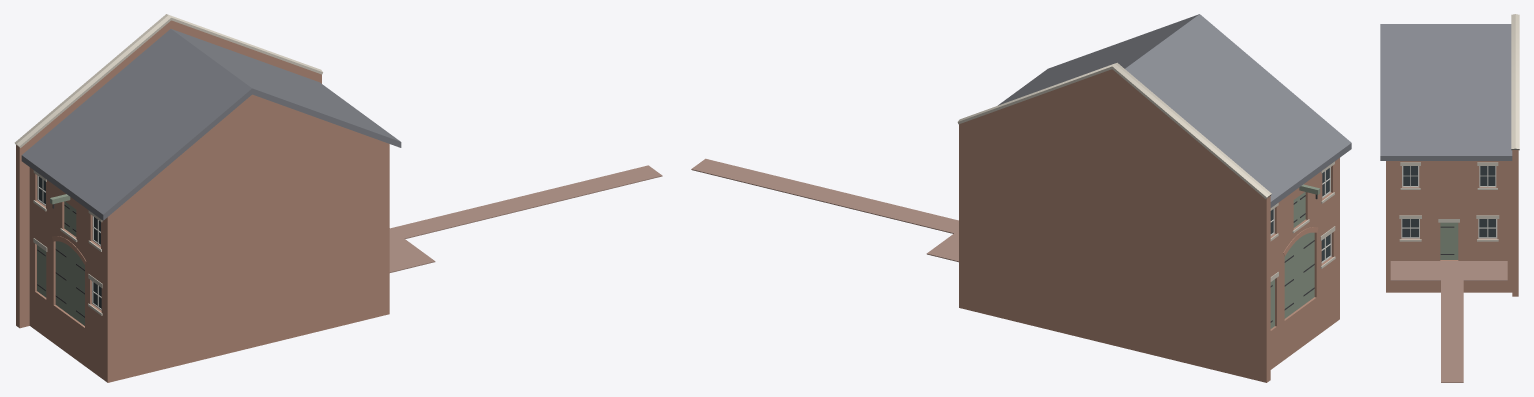
The model's file is house_1628_prairie_coach_house__as_standing_1904.glb.
3 views of the same model, side by side, from view 1: azimuth 30°, elevation 25°; view 2: azimuth 150°, elevation 25°; view 3: azimuth 270°, elevation 25° (orthographic). The views are drawn at different scales.
Parts seen in each view (by area): view 1: house_1628_prairie_coach_house__as_standing_1904; view 2: house_1628_prairie_coach_house__as_standing_1904; view 3: house_1628_prairie_coach_house__as_standing_1904.
Part boxes in pixels (<box>): house_1628_prairie_coach_house__as_standing_1904: <box>14,14,662,382</box>; house_1628_prairie_coach_house__as_standing_1904: <box>691,14,1351,382</box>; house_1628_prairie_coach_house__as_standing_1904: <box>1380,14,1519,382</box>.
Bounding box in the file's own units: 29.99 × 13 × 7.36.
